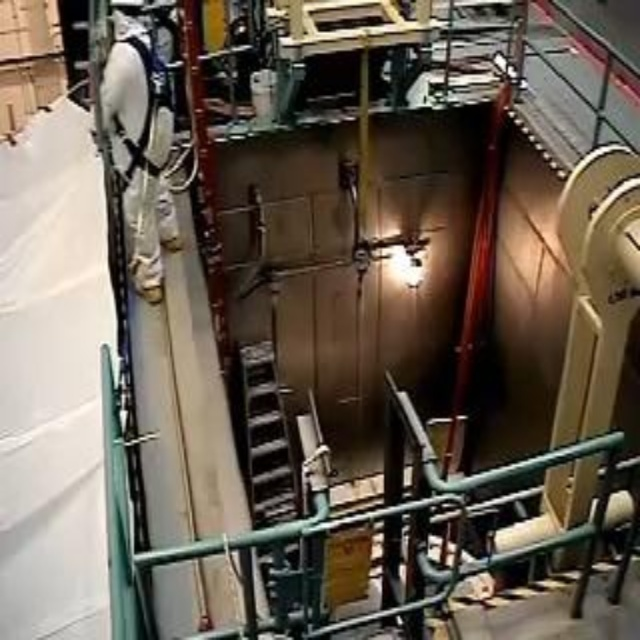Arnes_seguridad: (90, 27, 176, 185)
